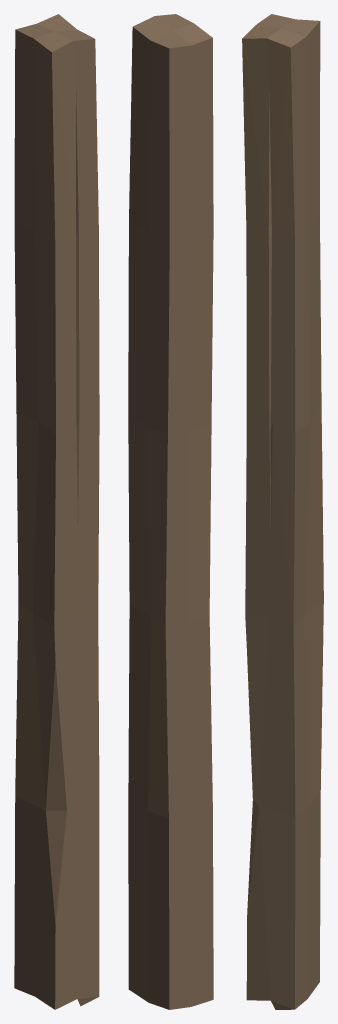
File: beam_01.fbx
The picture shows the model from 3 angles, left to right: view 1: azimuth 30°, elevation 25°; view 2: azimuth 210°, elevation 25°; view 3: azimuth 330°, elevation 25°; orthographic projection.
Visible parts, largest first — view 1: beam_01; view 2: beam_01; view 3: beam_01.
Boxes of the visible parts, <box> form: beam_01: <box>14,14,99,1009</box>; beam_01: <box>128,14,213,1009</box>; beam_01: <box>242,14,323,1009</box>.
Size of the model in its own units: 11.09 by 188 by 12.58.
1 material, 1 textured.
